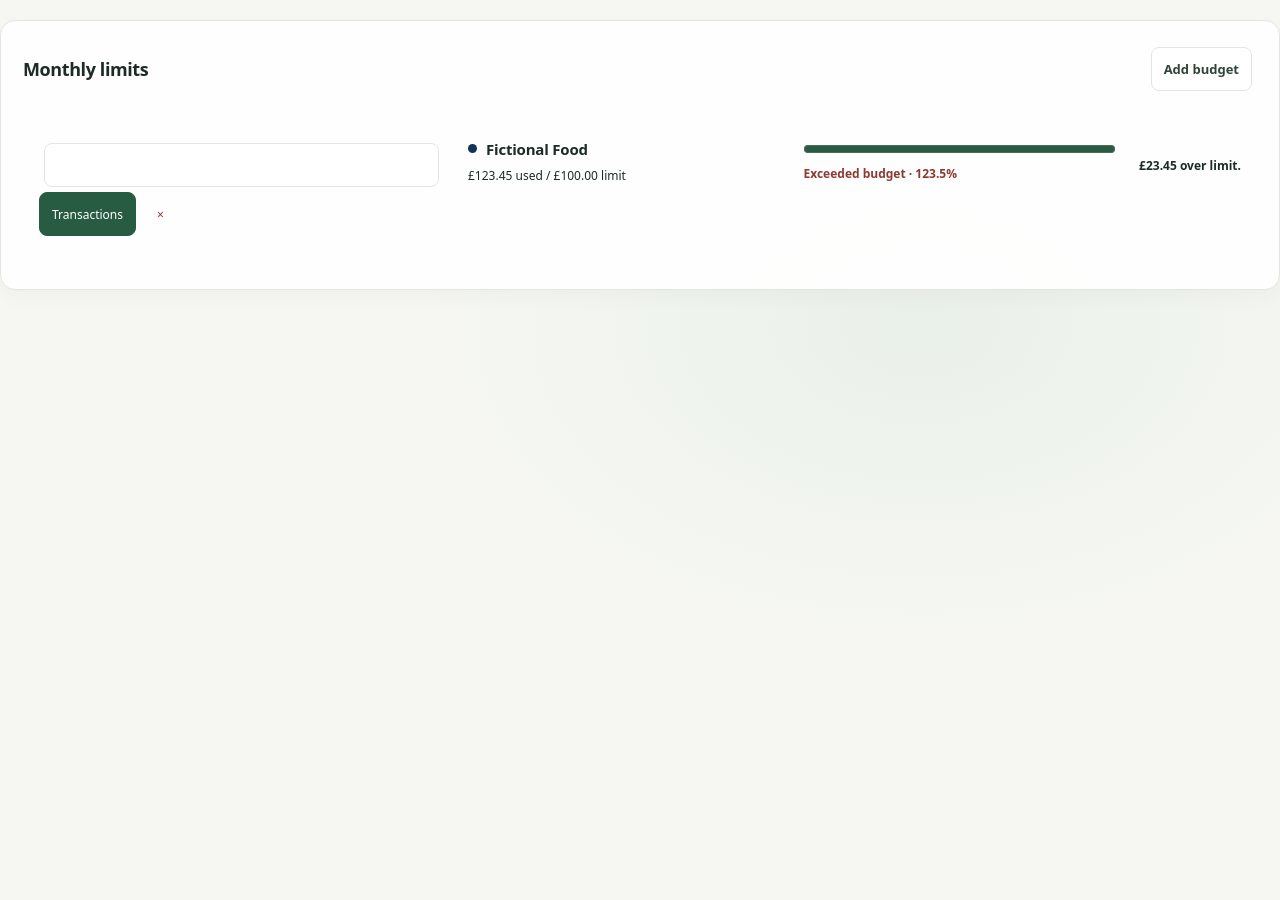
Test: monthly budgets › saves exact pence and edits limits without mutating persisted comparison preferences
Expected: the list named "Category budgets" is shown, [23, 120, 1257, 244]
Click the button named "Edit budget for Fictional Food": (242, 165) [44, 143, 439, 187]
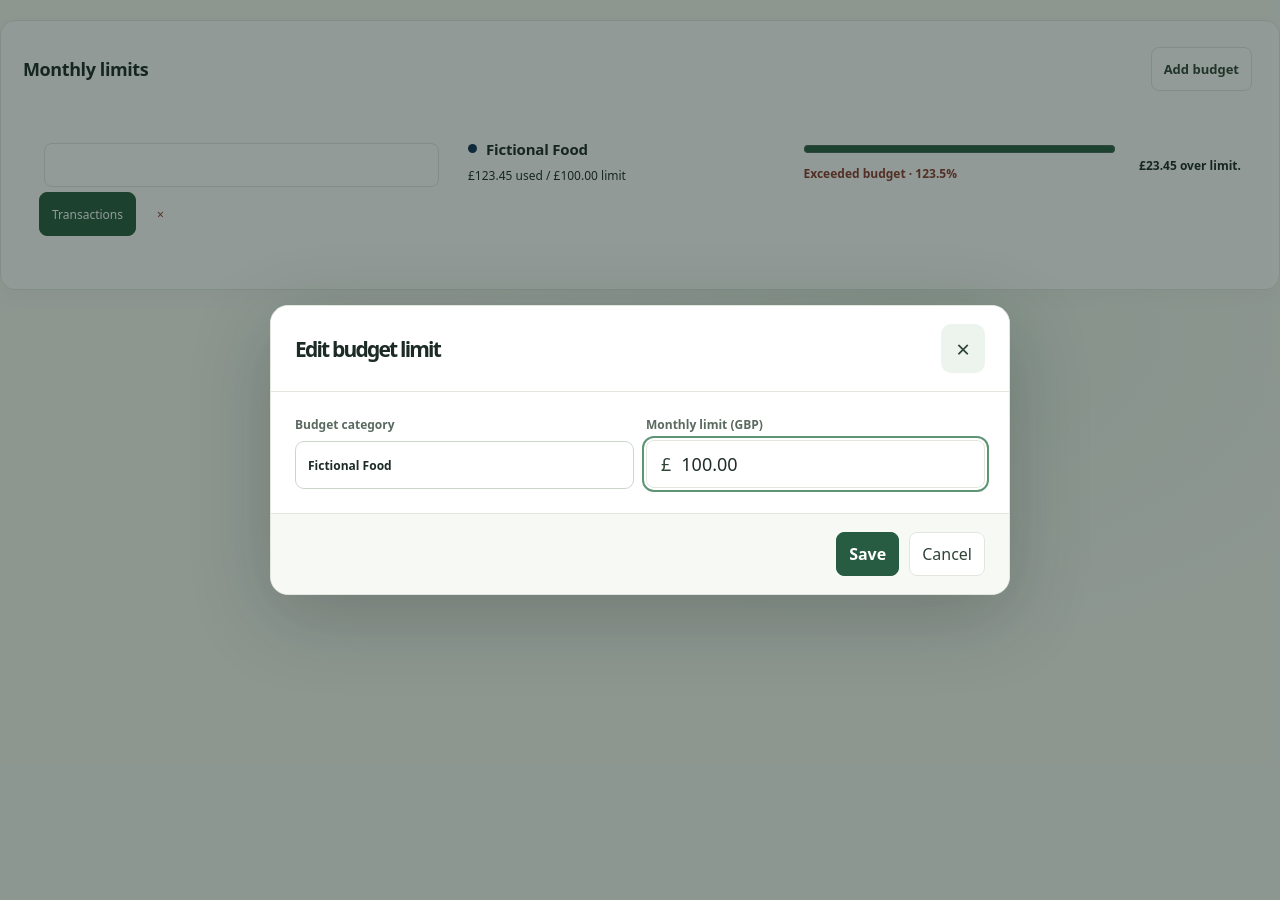
Now the heading "Edit budget limit" is shown, box [295, 334, 440, 362]
Now the field labelled "Monthly limit (GBP)" holds "100.00"
Replace the text in the field labelled "Monthly limit (GBP)" with "250.01": (826, 464) [681, 440, 970, 486]
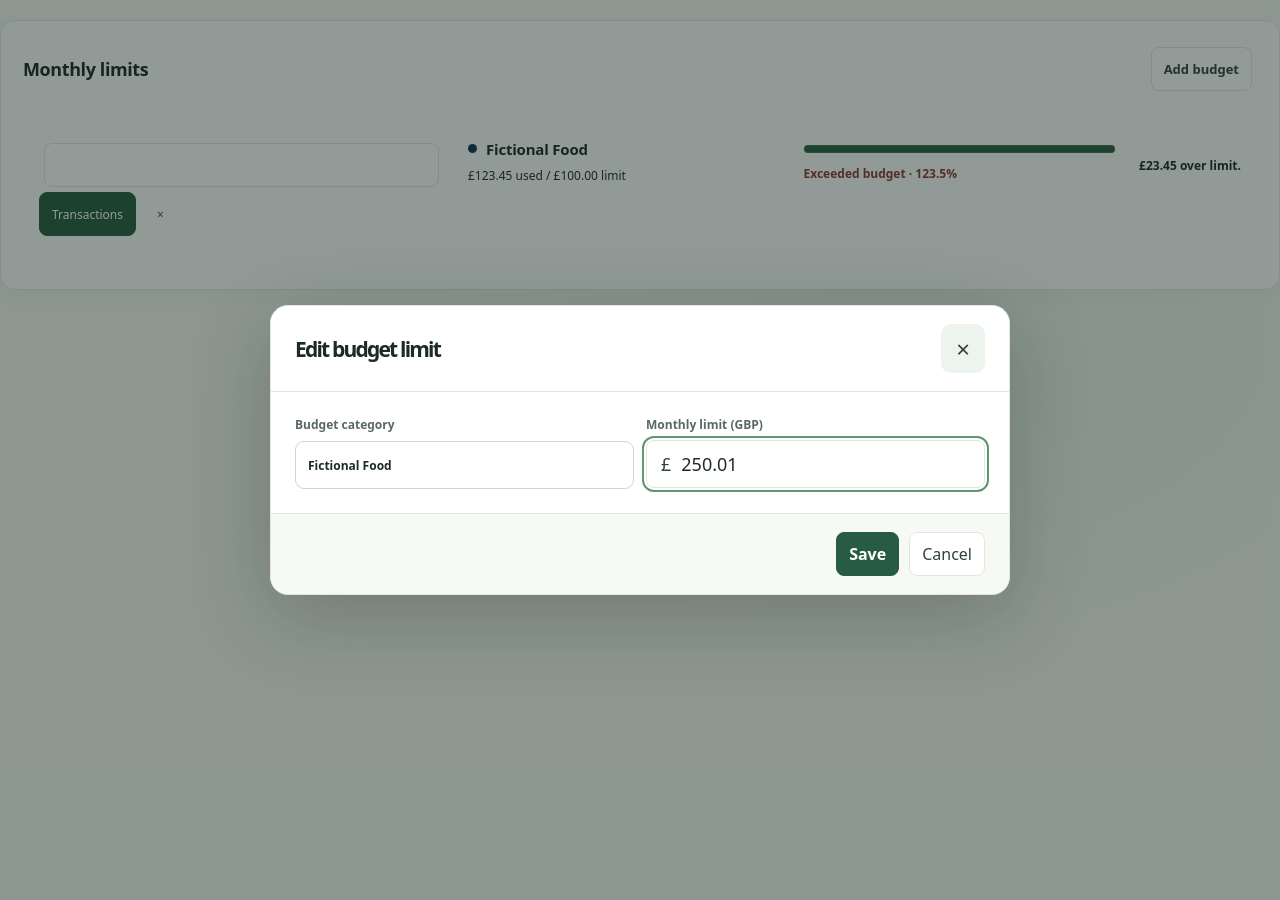
Click the button with aria-label "Save monthly budget": (868, 554) [836, 532, 899, 576]
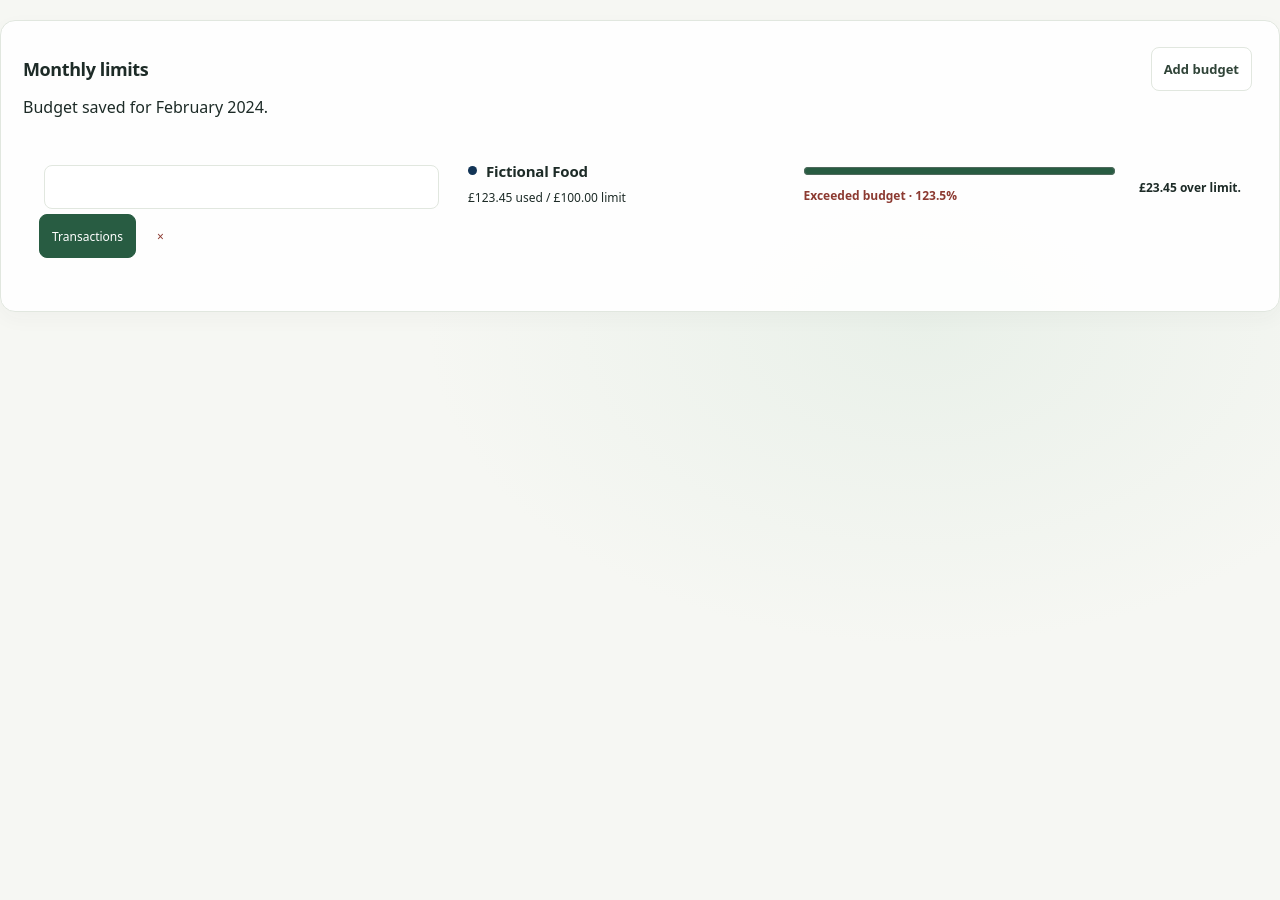
Now the text "Budget saved for February 2024." is shown, box [23, 96, 268, 118]
Now the dialog is gone
